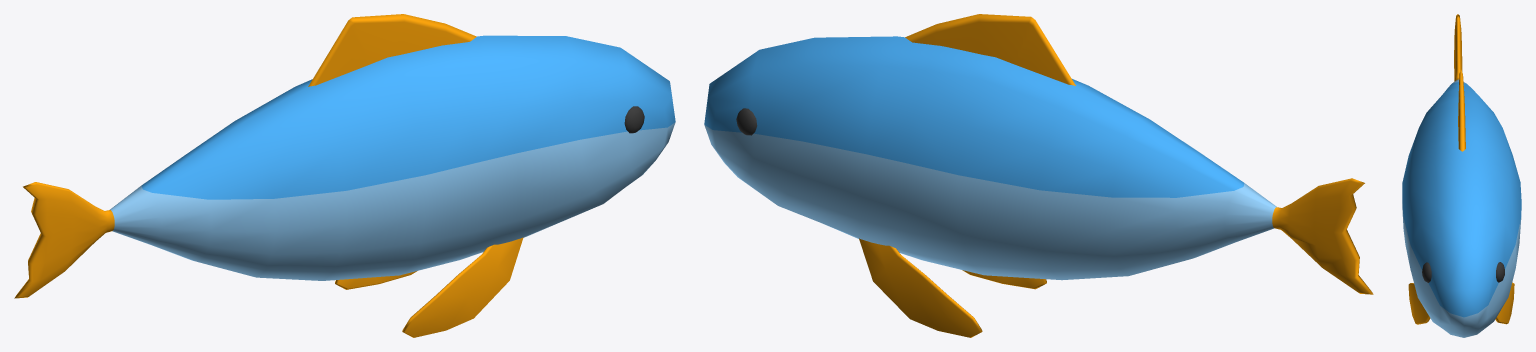
The model's file is Fish.fbx.
3 views of the same model, side by side, from view 1: azimuth 30°, elevation 25°; view 2: azimuth 150°, elevation 25°; view 3: azimuth 270°, elevation 25° (orthographic). The views are drawn at different scales.
Visible parts, largest first — view 1: Fish; view 2: Fish; view 3: Fish.
Boxes of the visible parts, left/top/right/bottom form: Fish: left=14, top=14, right=675, bottom=337; Fish: left=704, top=14, right=1373, bottom=337; Fish: left=1402, top=14, right=1521, bottom=337.
Bounding box in the file's own units: 73.75 × 32.39 × 15.54.
